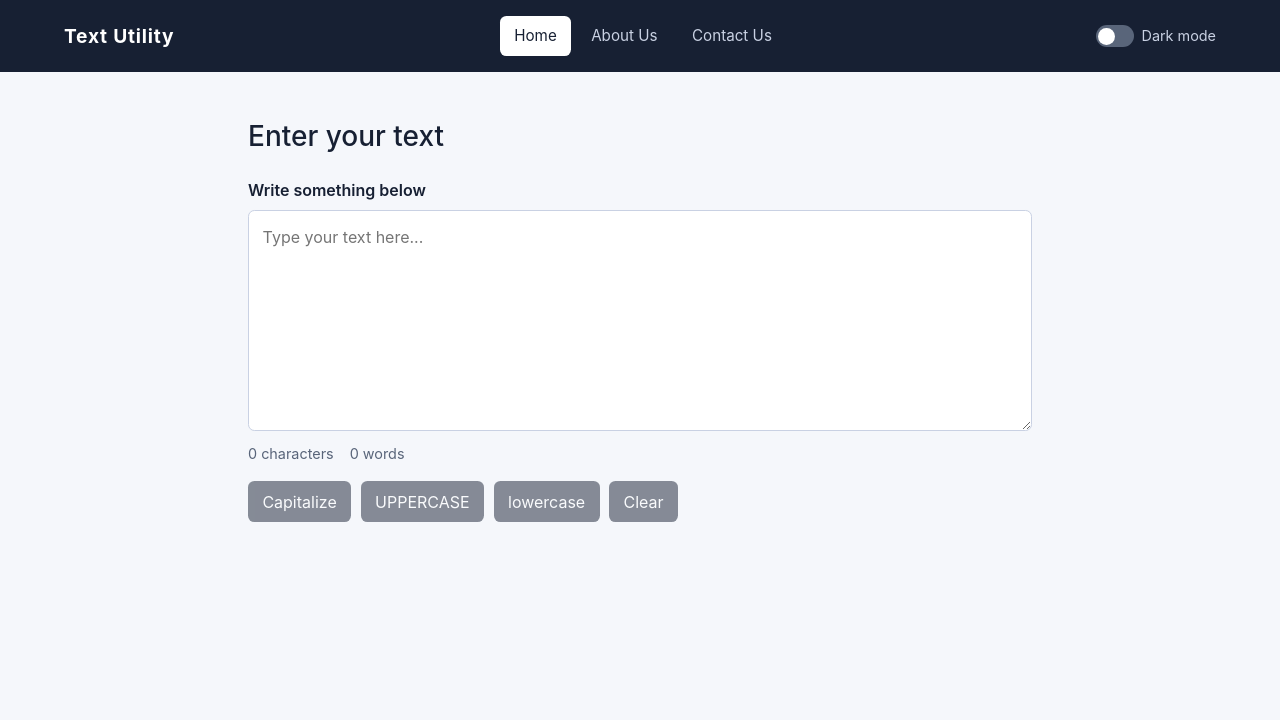
Test: capitalizes every word in the entered text
Type "hello WORLD again" into the text box at (640, 321), box 248,210 -> 1032,431
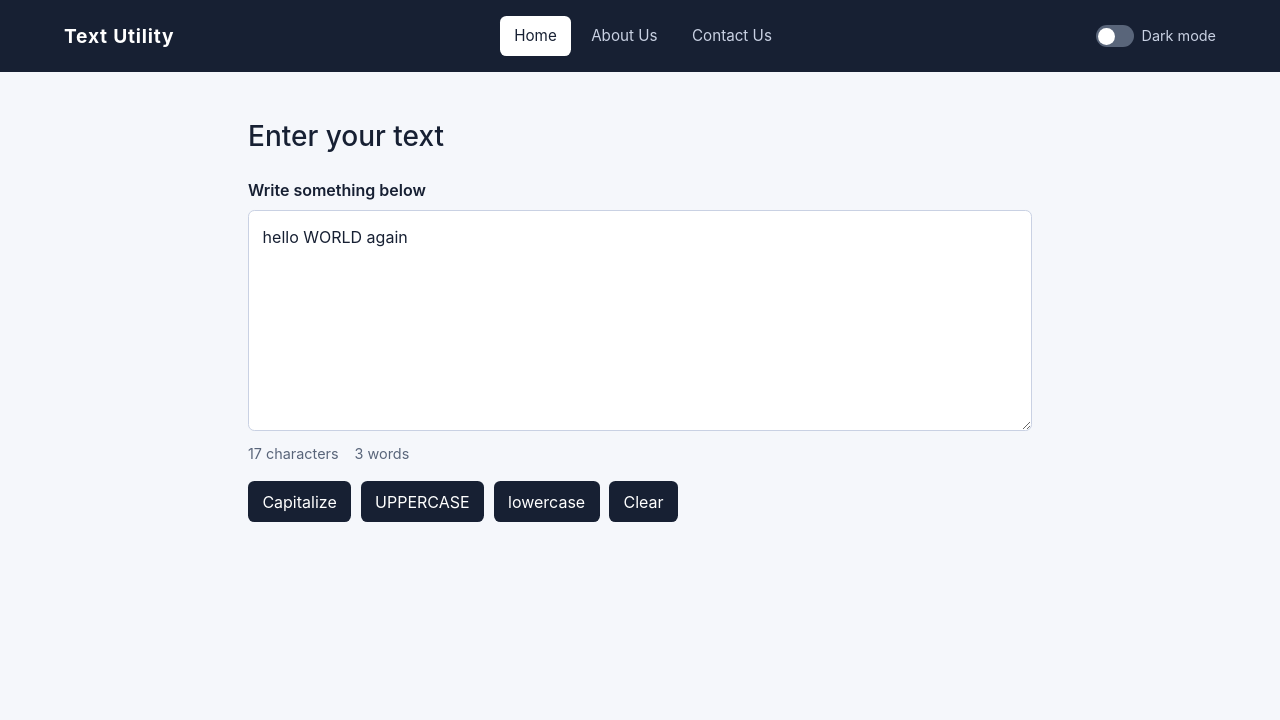
Click the button "Capitalize" at (300, 502), box 248,481 -> 351,522
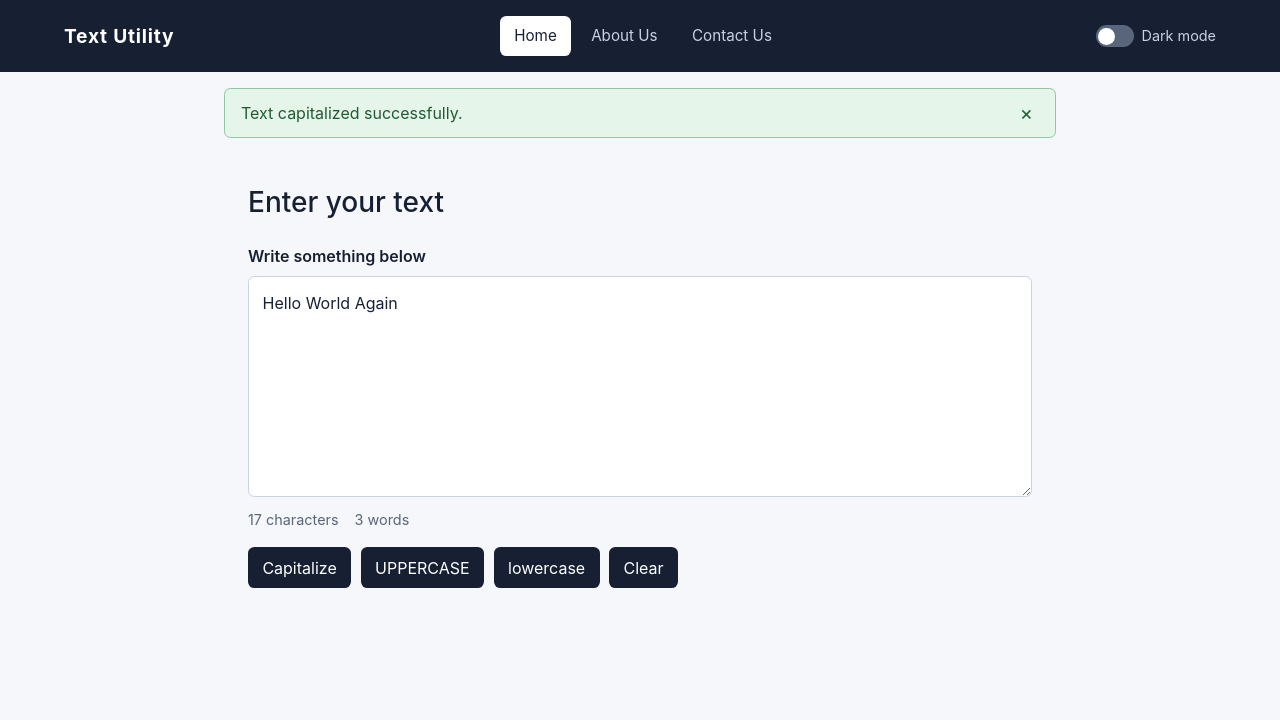
Now the message shows "Text capitalized successfully.", box 241,103 -> 463,123
